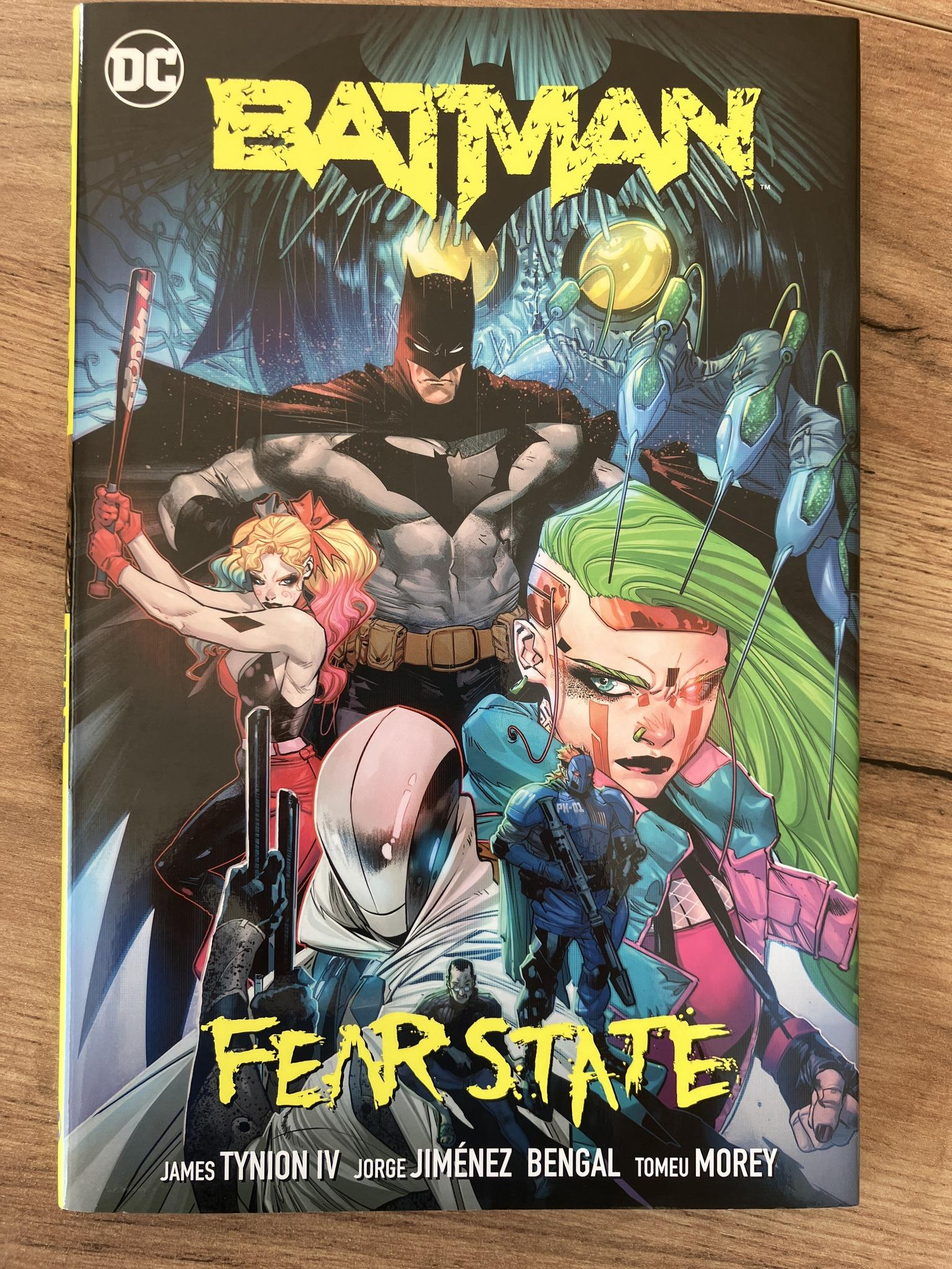comic: (60, 2, 867, 1218)
